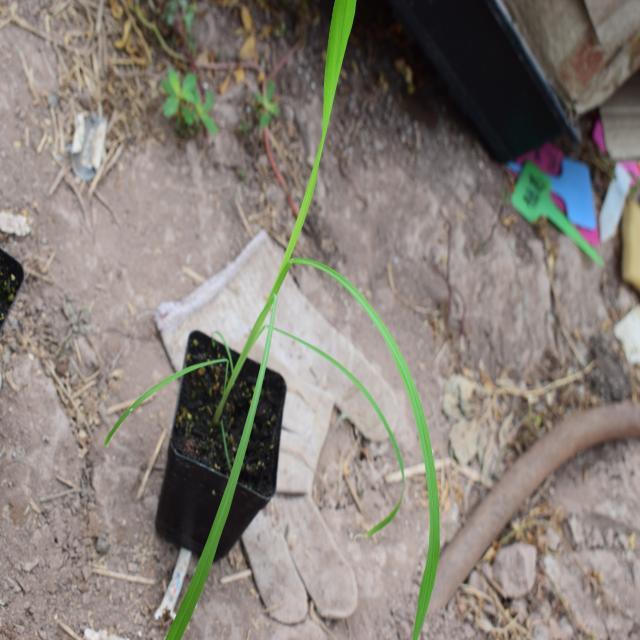barnyard_grass: (177, 4, 457, 571)
